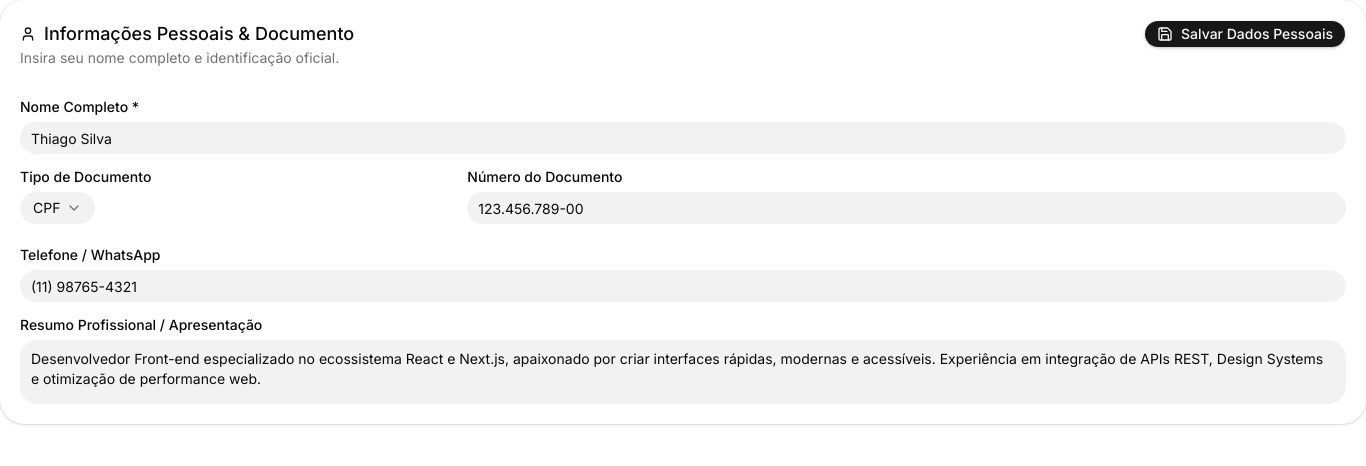
Test: CandidatePersonalInfoSection Component › displays error when validation fails
Replace the text in the field labelled "Nome Completo *" with "A": x=683, y=138 top-left (20, 122), bottom-right (1346, 154)
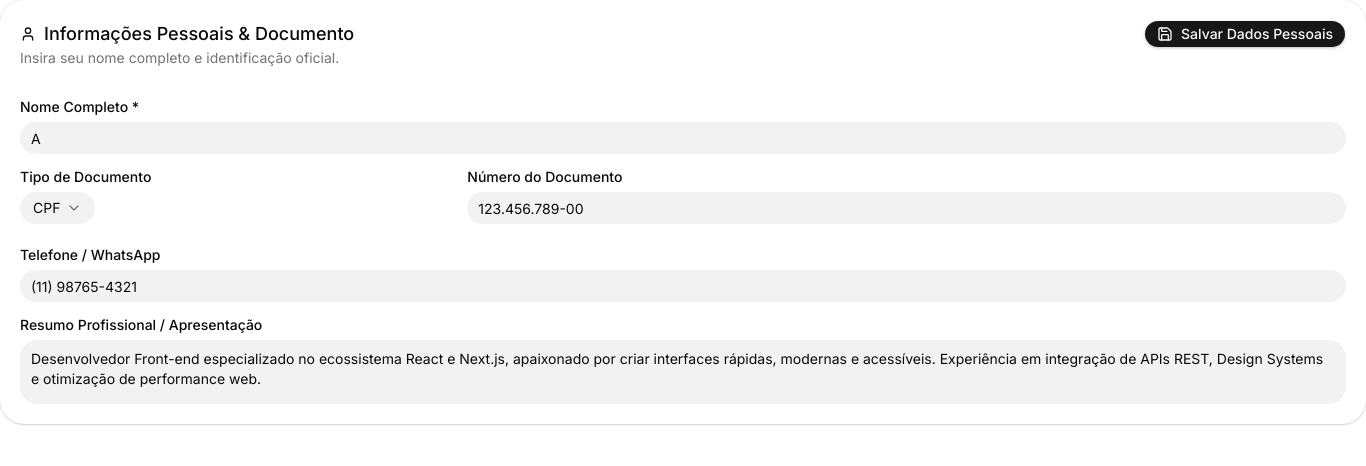
Click the button "Salvar Dados Pessoais": x=1245, y=34 top-left (1144, 20), bottom-right (1346, 48)
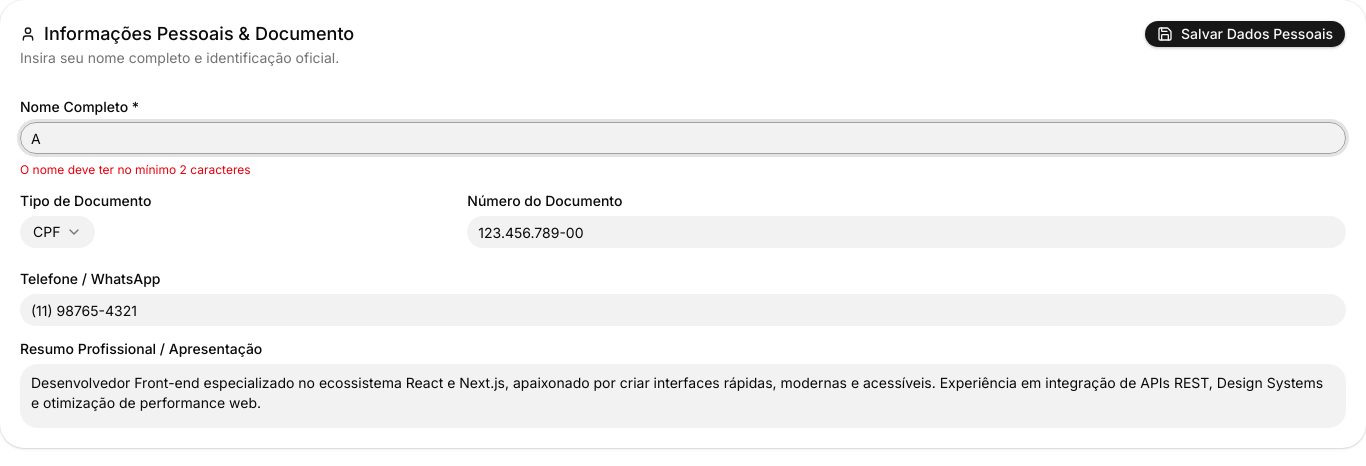
Expected: the text "O nome deve ter no mínimo 2 caracteres" is shown, top-left (20, 162), bottom-right (250, 177)
